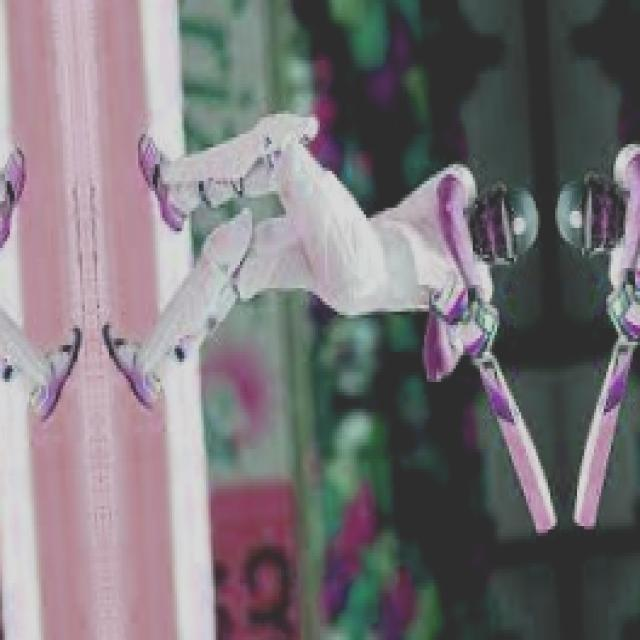toe: (525, 511, 561, 539)
